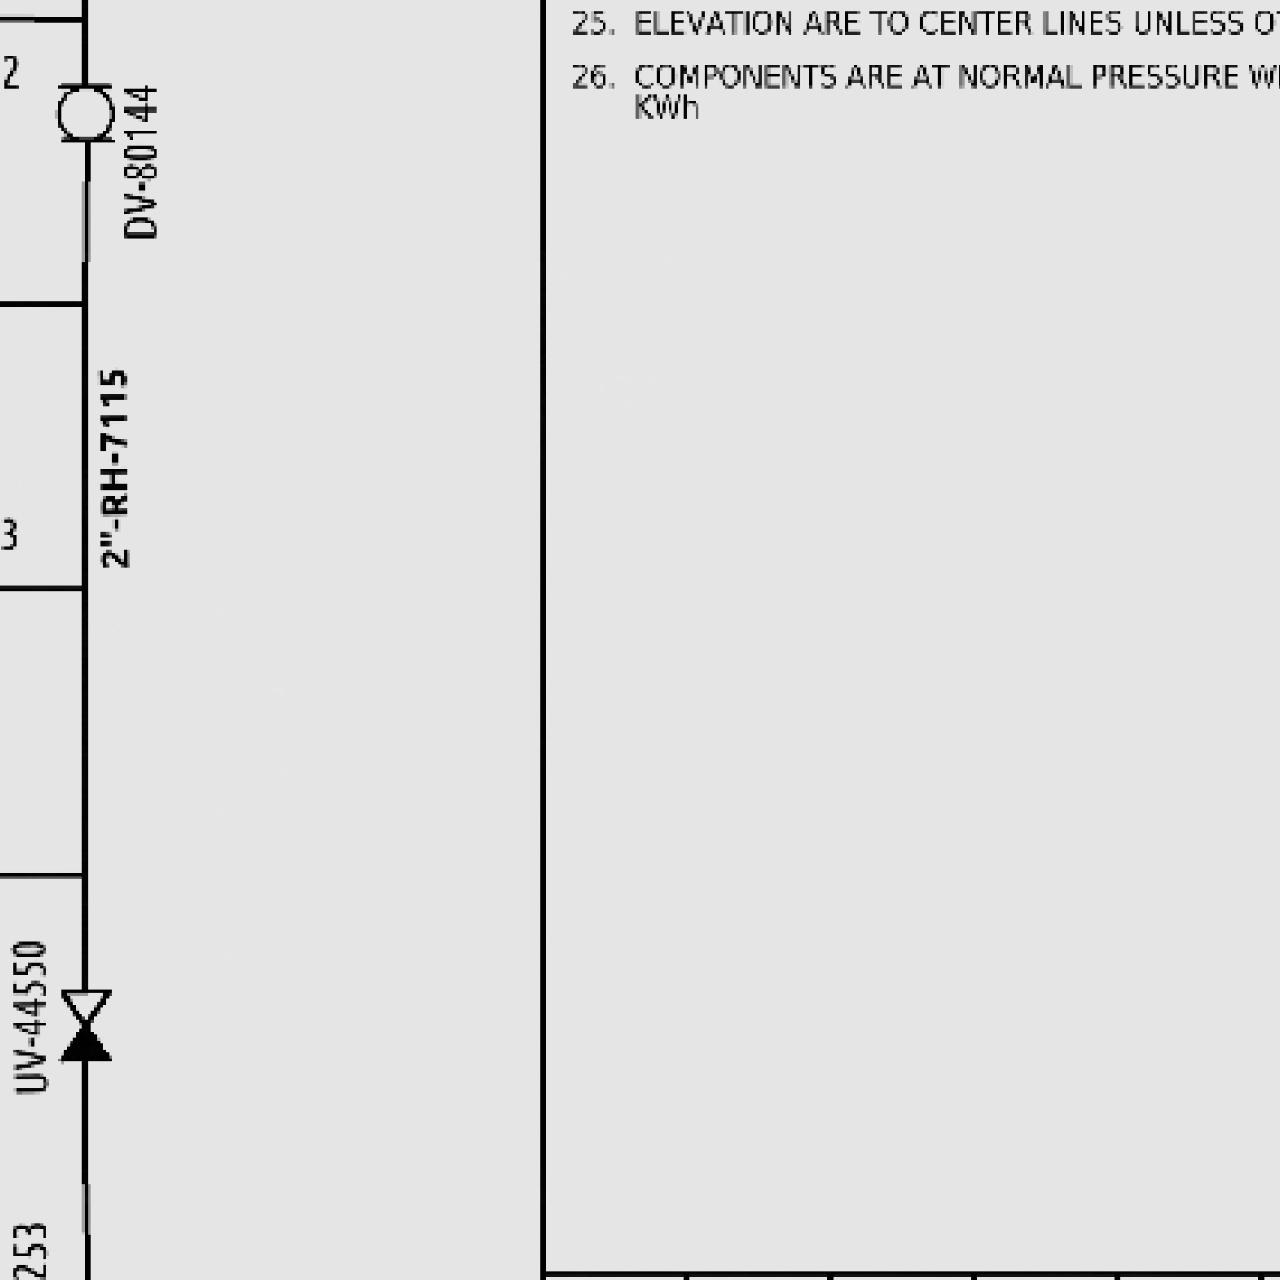Half closed valve: (54, 983, 115, 1066)
